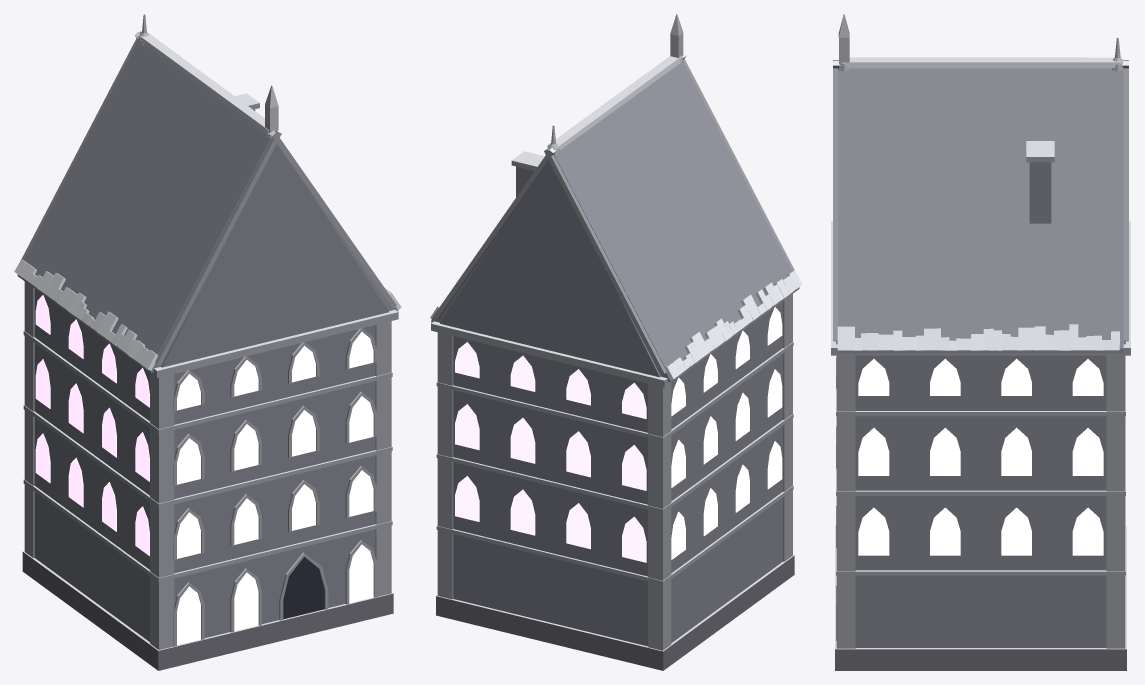
The model's file is AR_Lote_Empena.fbx.
3 views of the same model, side by side, from view 1: azimuth 30°, elevation 25°; view 2: azimuth 150°, elevation 25°; view 3: azimuth 270°, elevation 25° (orthographic). The views are drawn at different scales.
Parts seen in each view (by area): view 1: AR_Lote_Empena; view 2: AR_Lote_Empena; view 3: AR_Lote_Empena.
Boxes of the visible parts, x1,y1,x2,y2 form: AR_Lote_Empena: (14,14,401,670); AR_Lote_Empena: (430,14,802,670); AR_Lote_Empena: (831,14,1130,670).
Size of the model in its own units: 13.29 by 27.6 by 12.6.
